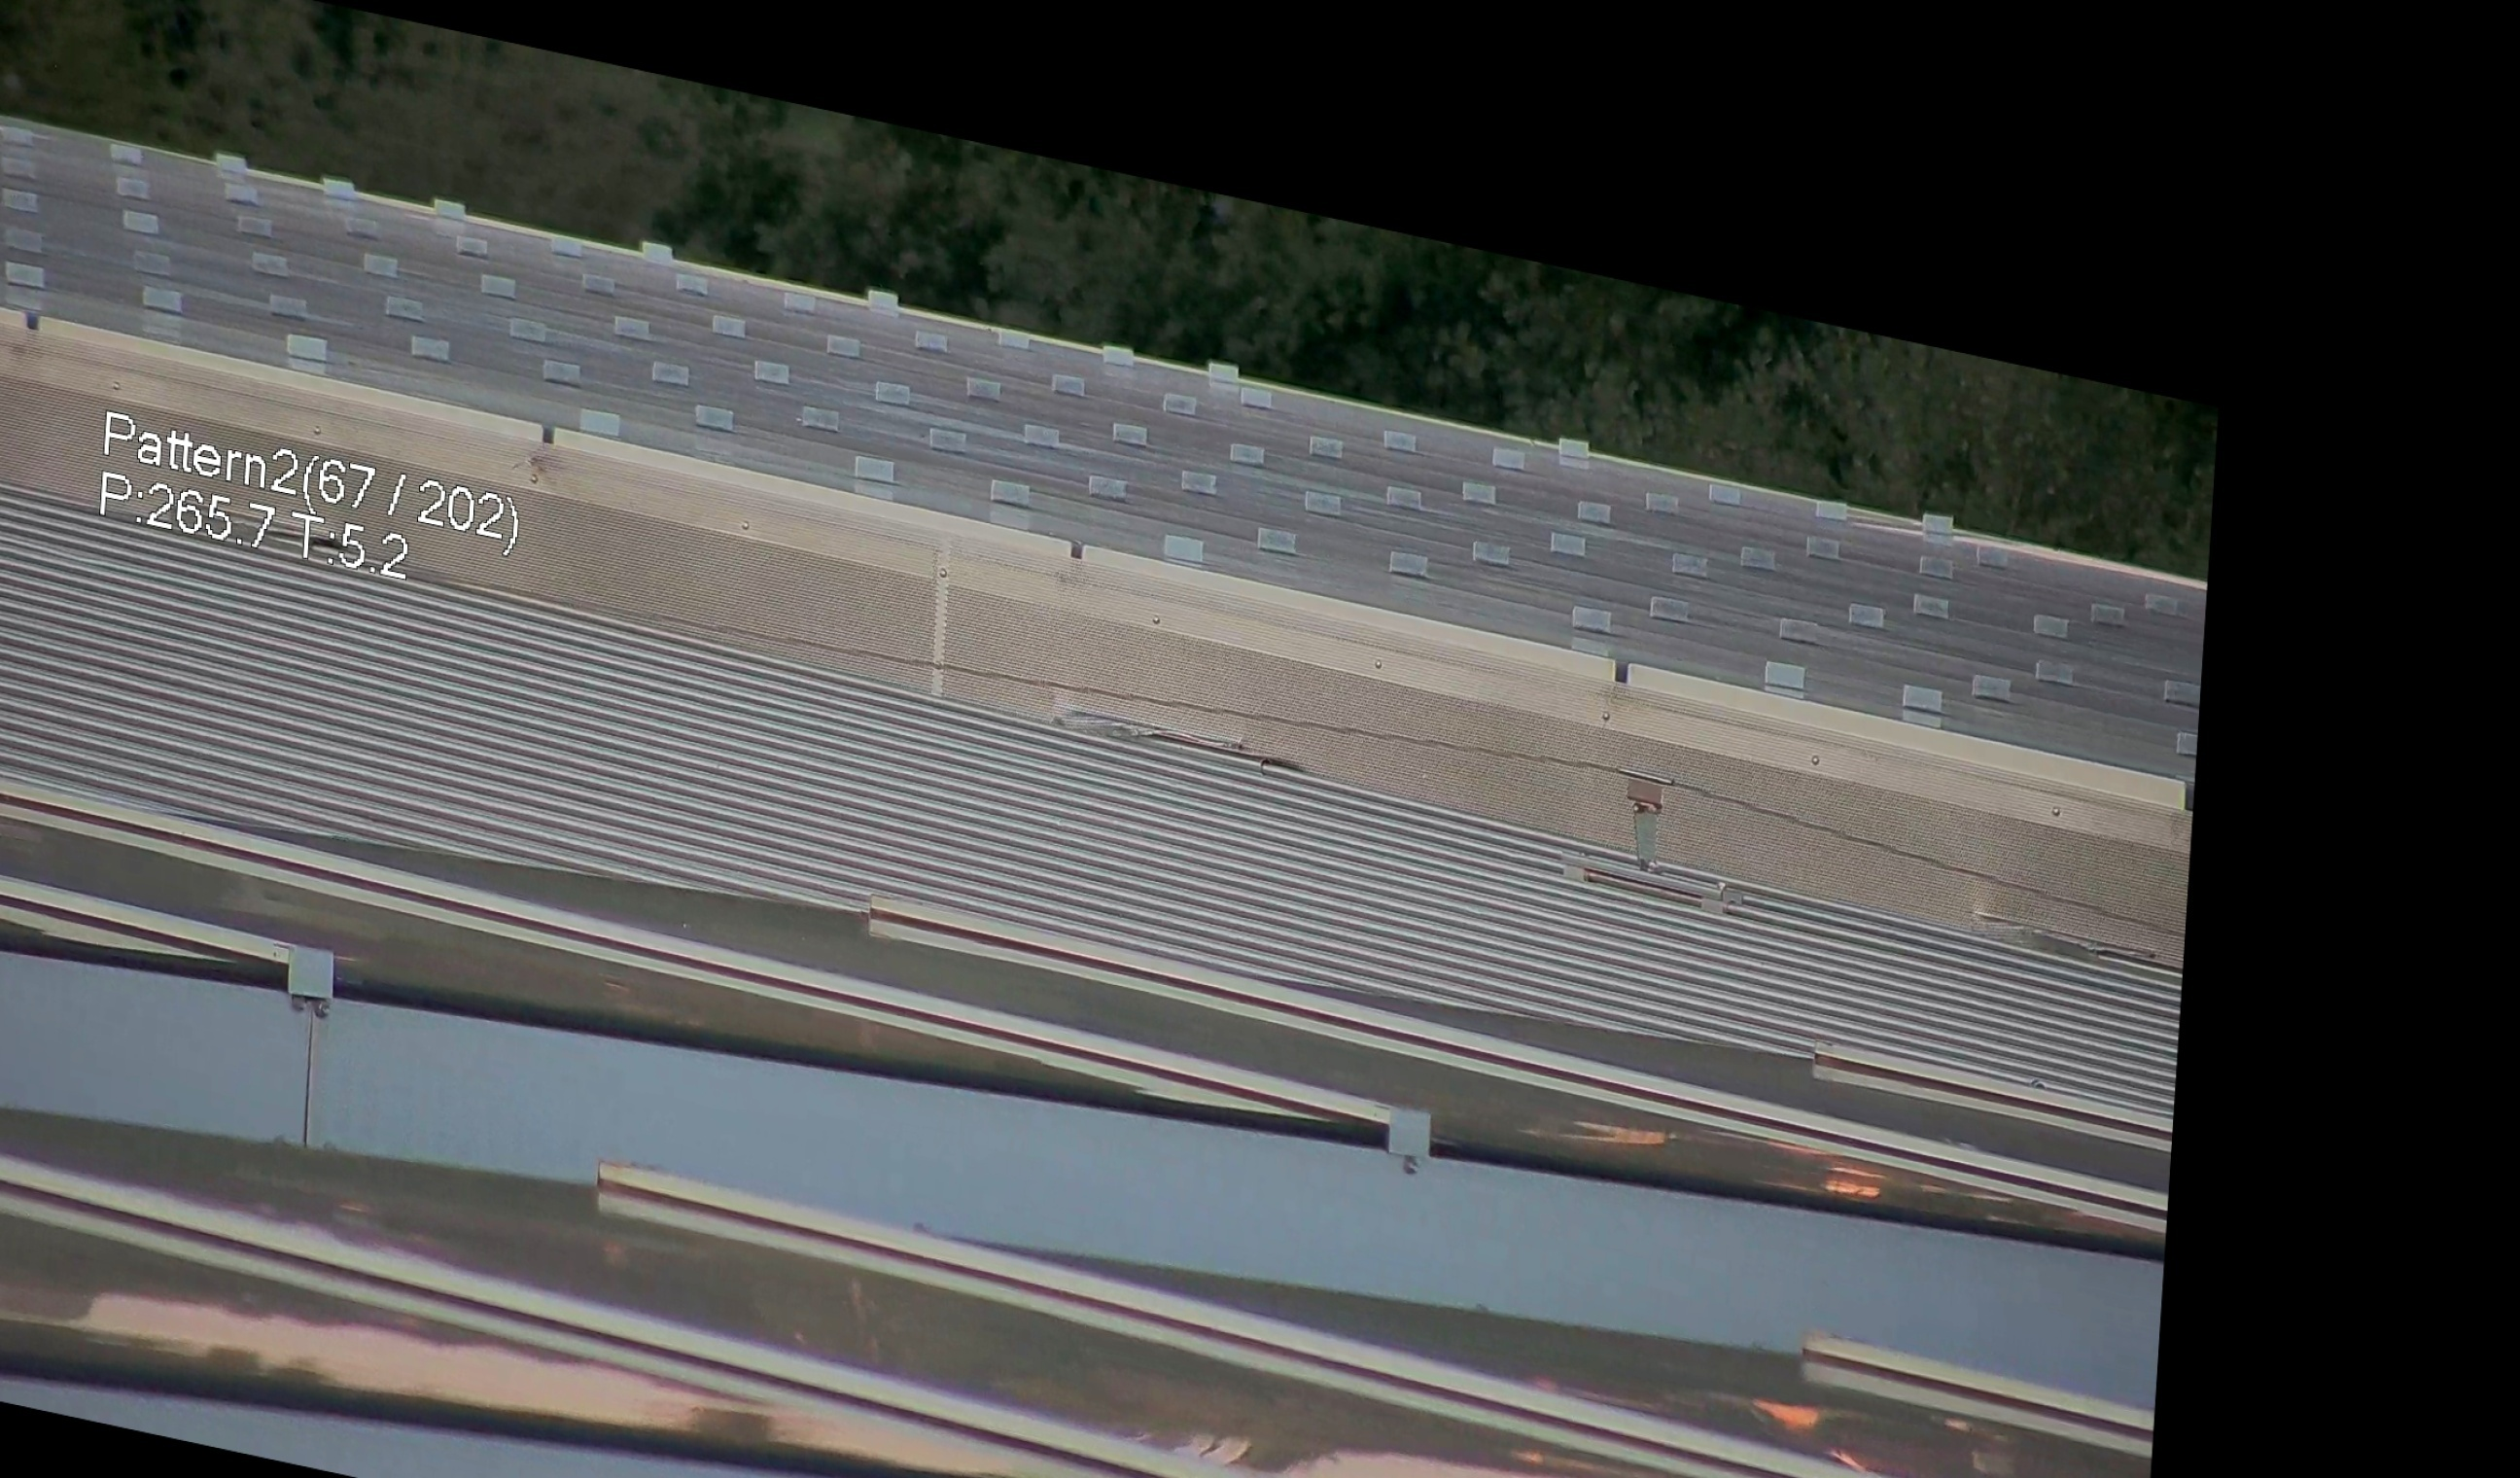Other: (1623, 765, 1686, 866)
